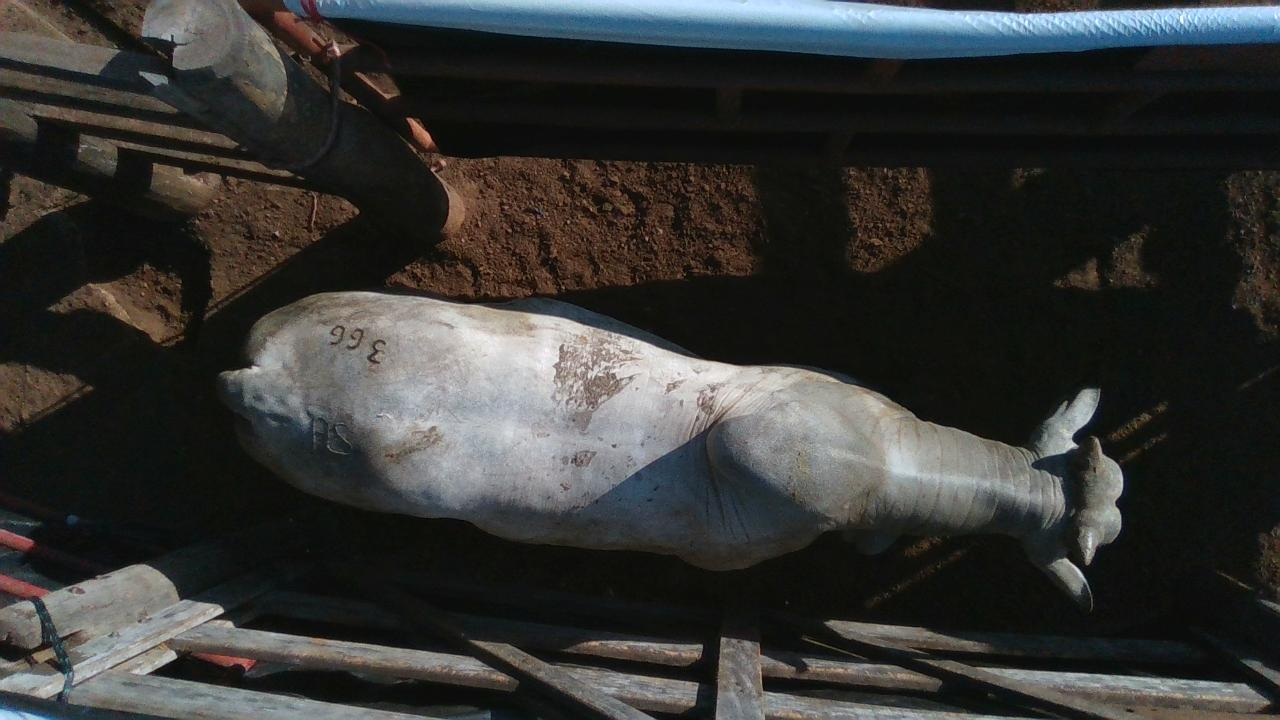cattle: (215, 287, 1125, 616)
